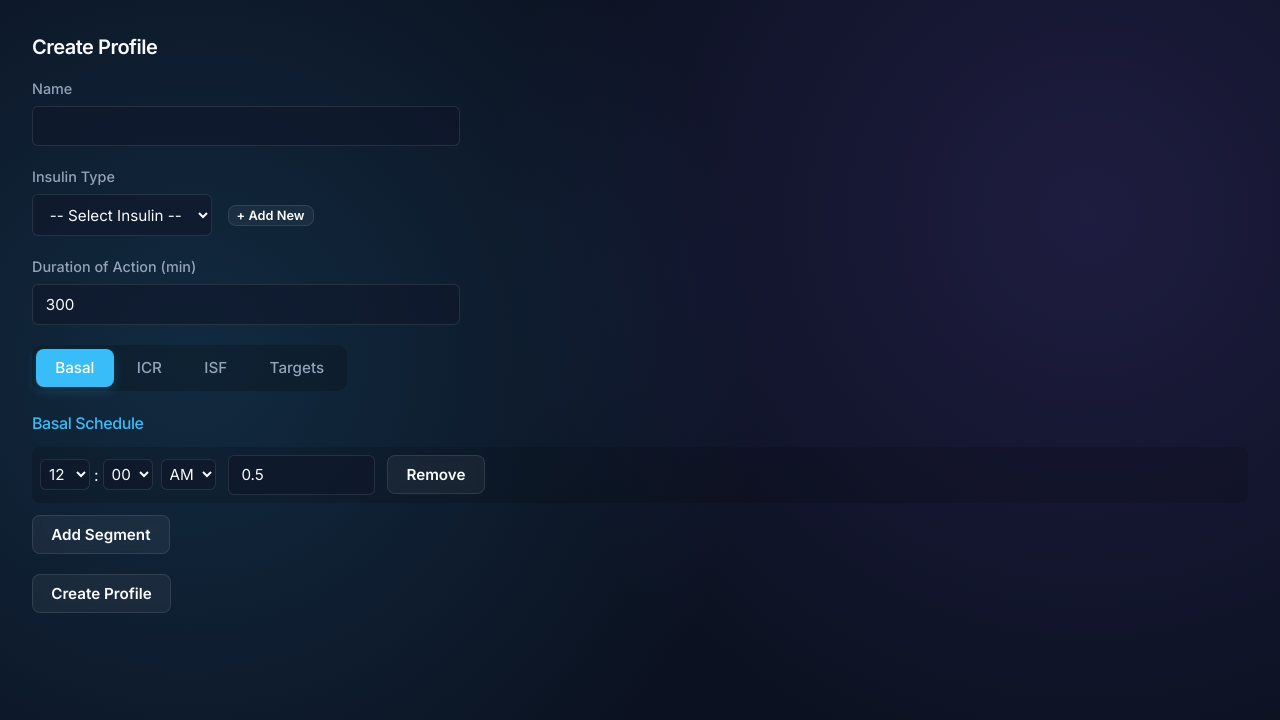
can add a target segment with low and high values
Switch to Targets tab
Click the button "Targets" at [297, 368], box [250,349,343,387]
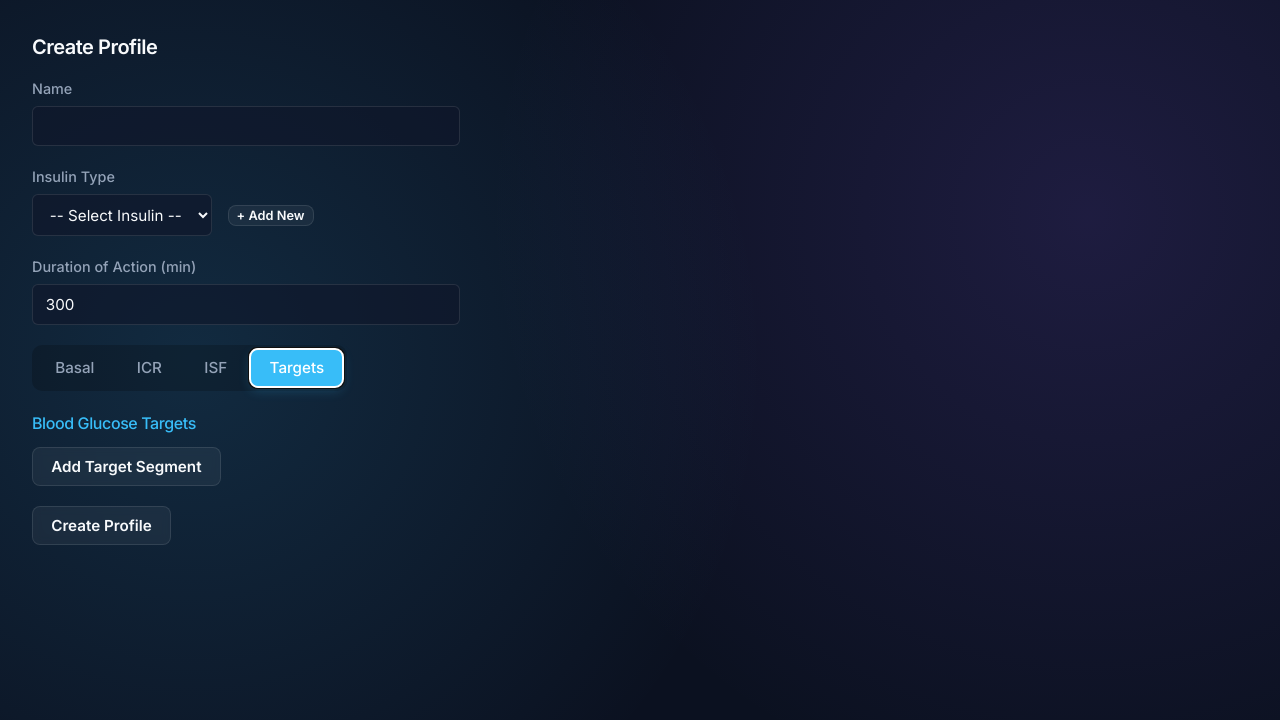
Add a target segment
Click the button "Add Target Segment" at [126, 466], box [32,447,221,486]
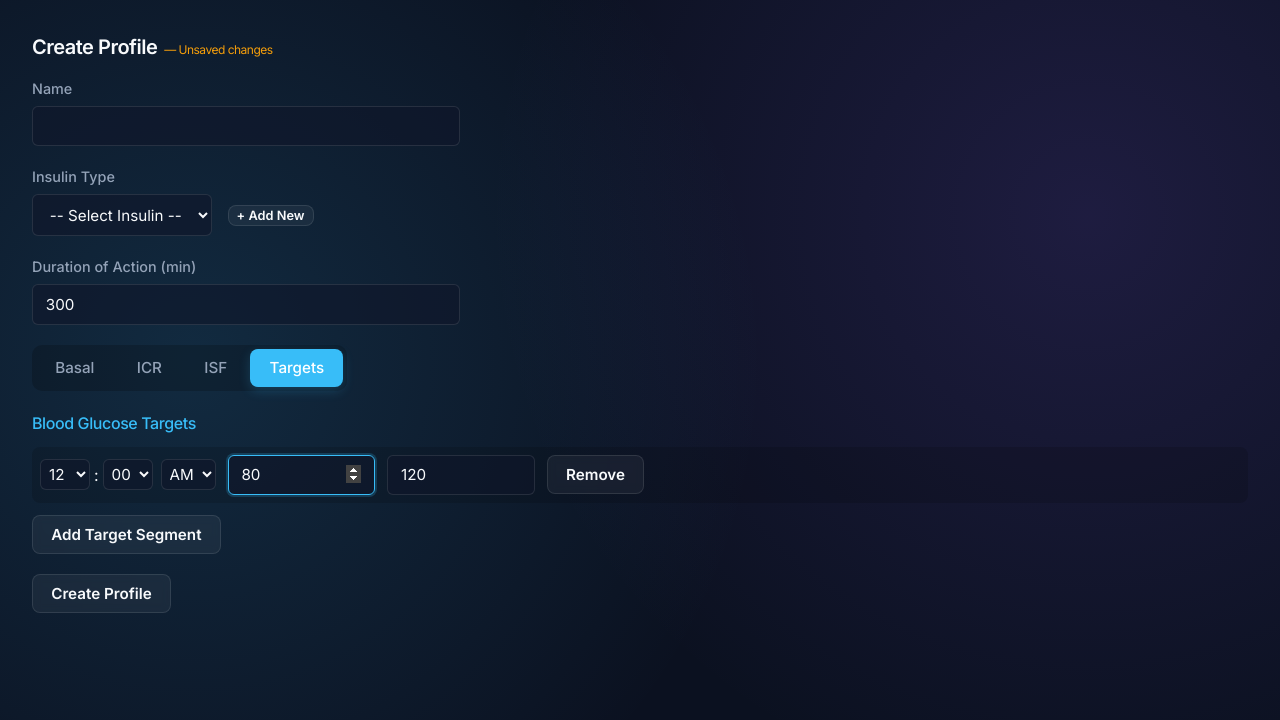
Now the number field with placeholder "Low (mg/dL)" is shown, box [228,455,375,495]
Now the number field with placeholder "High (mg/dL)" is shown, box [387,455,535,495]
